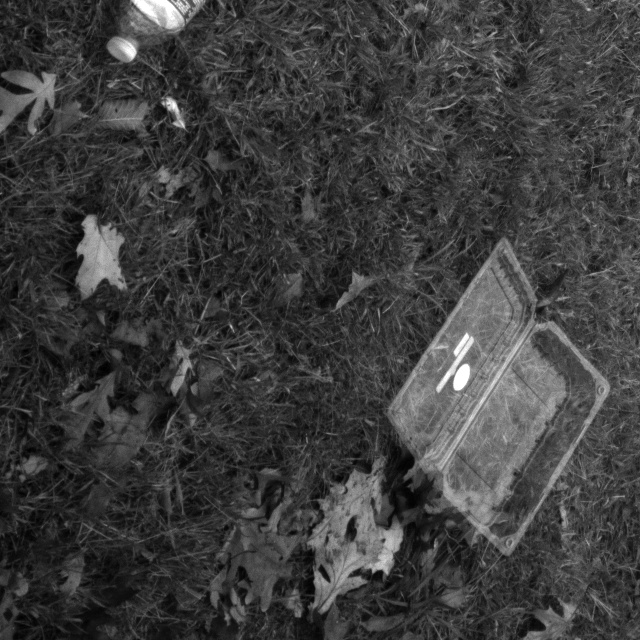bottle: (369, 236, 607, 565), (89, 0, 266, 68)
